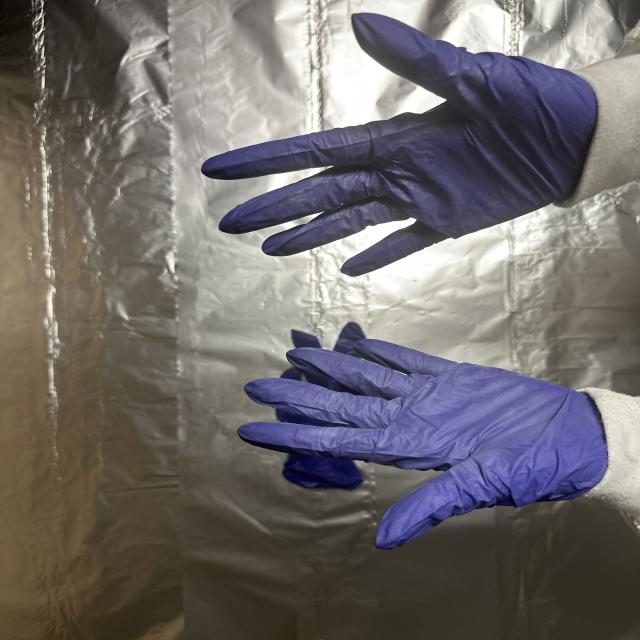gloves_contaminated: (202, 13, 597, 276), (238, 339, 608, 549)
